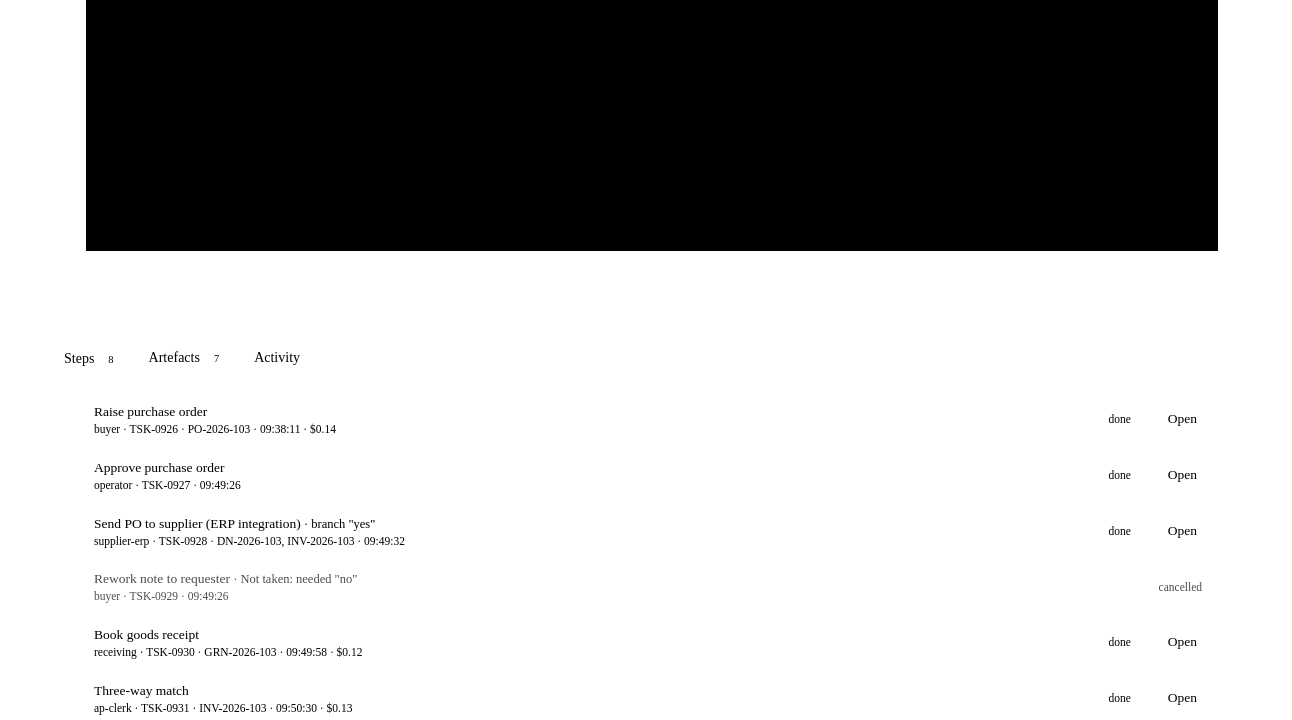
Test case: Run screen › opens one artefact as its document
This screenshot has width=1292, height=720.
(page scrolled)
Click the tab "Artefacts 7": click(187, 360) [147, 340, 228, 379]
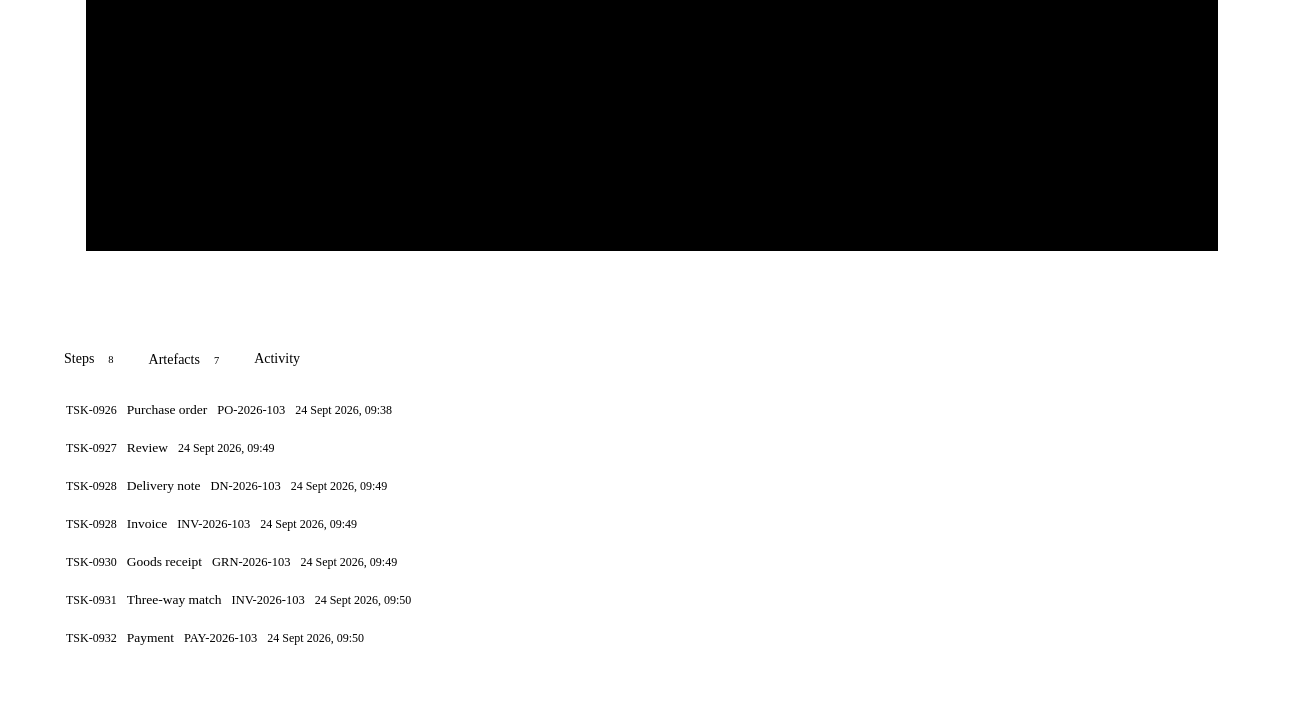
Click the button "TSK-0928 Invoice INV-2026-103 24 Sept 2026, 09:49": click(91, 524) [62, 505, 1218, 543]
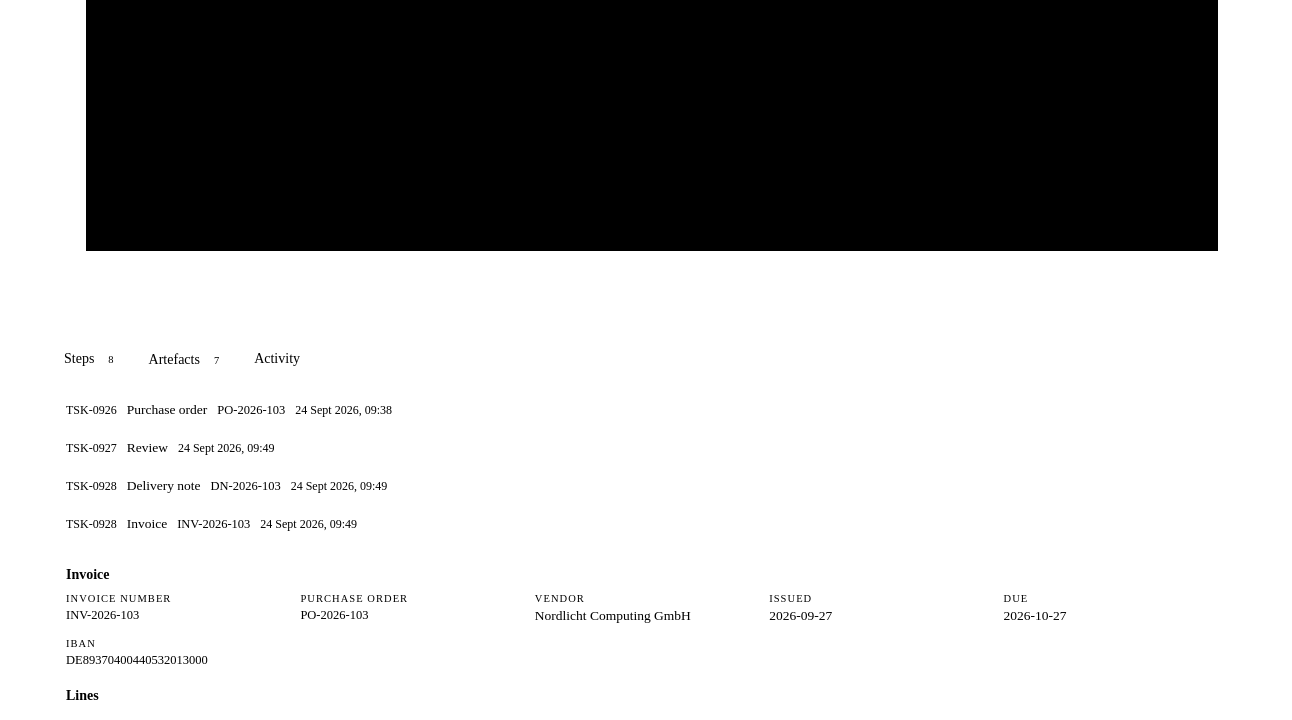
Expected: the text "Invoice number" is shown, [66, 593, 171, 604]
